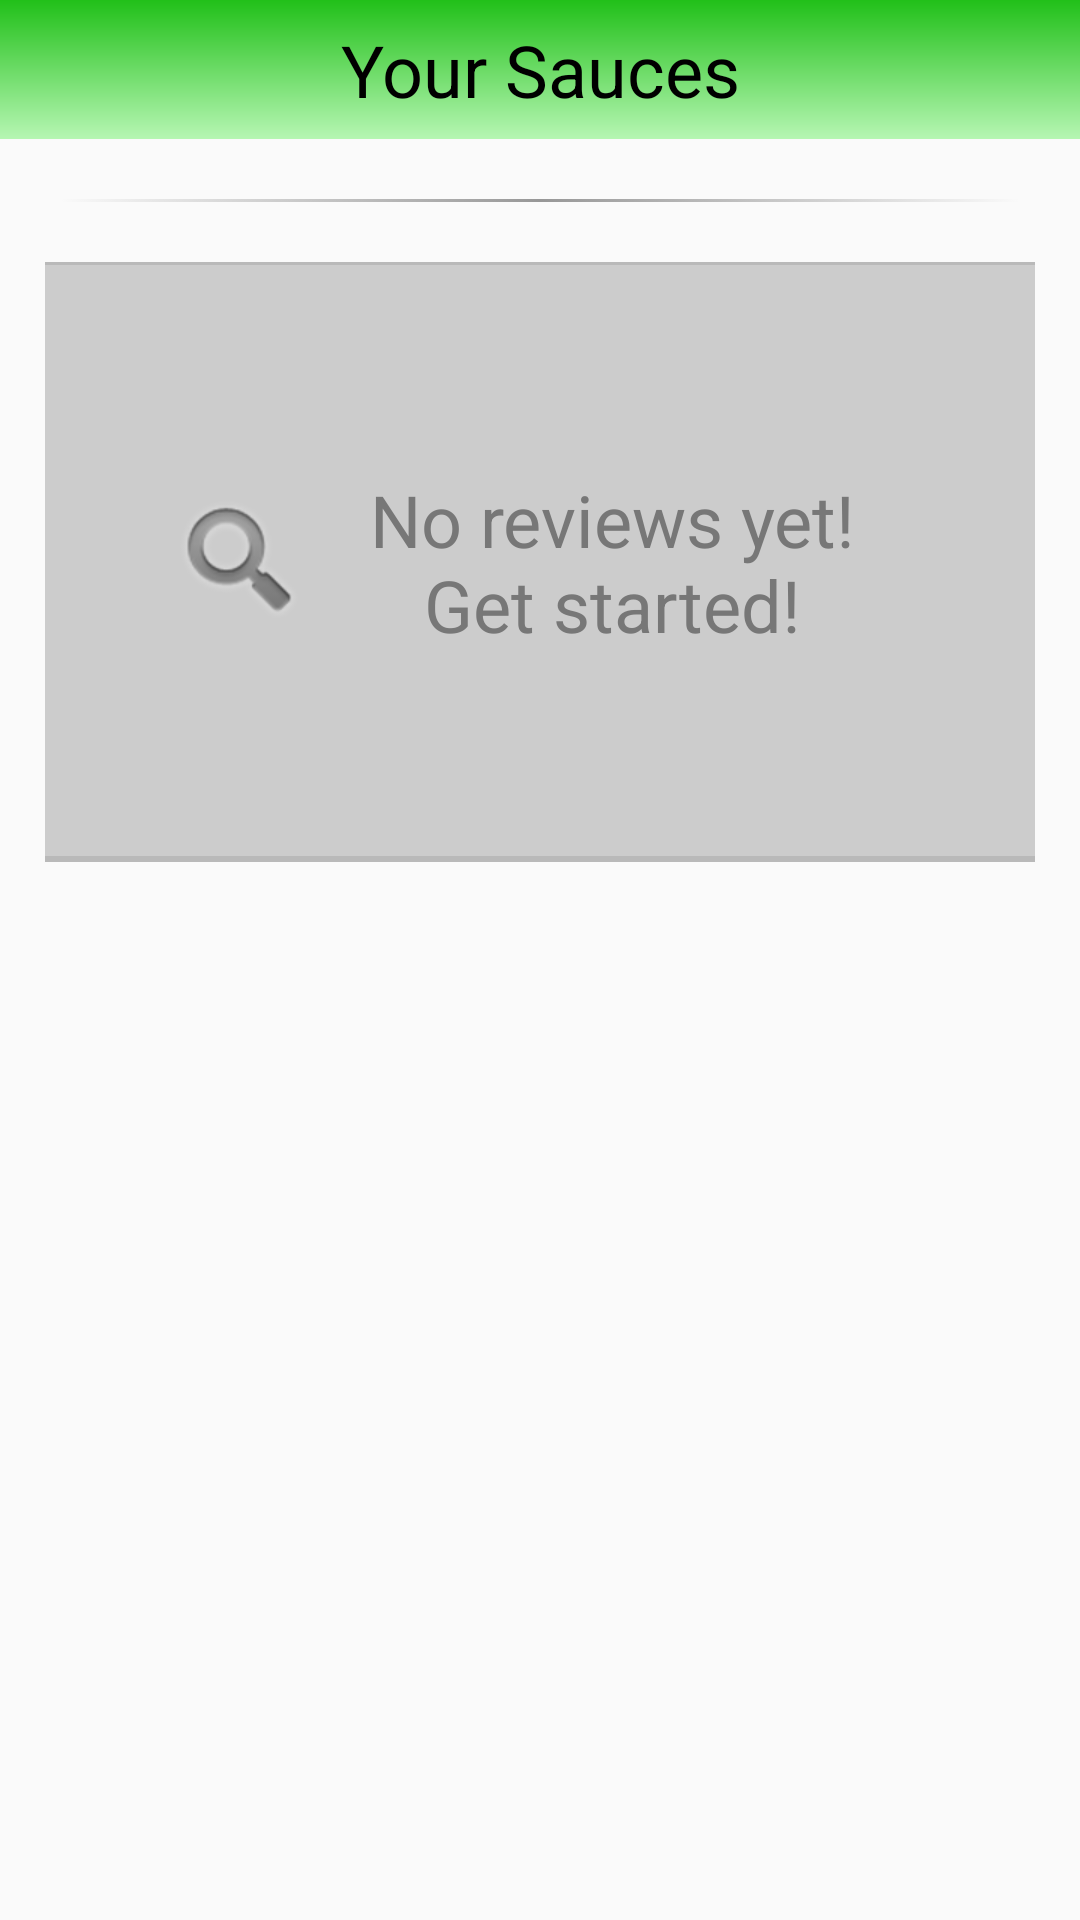

Where icons sit on this 1080px x 1920px app screen, as (x1, y1, x2, y2):
Search icon: (188, 508, 291, 610)
